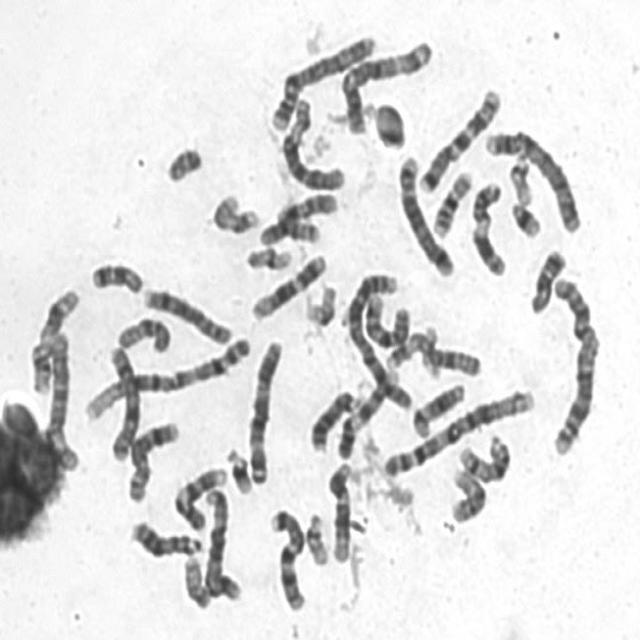A1: (78, 331, 255, 424), (378, 384, 540, 481)
A2: (545, 270, 602, 458), (343, 265, 415, 413)
A3: (337, 33, 436, 137), (244, 333, 286, 488)
B4: (266, 27, 377, 135), (481, 122, 583, 235)
B5: (394, 150, 456, 278), (199, 483, 243, 603)
C10: (255, 188, 339, 248), (360, 288, 412, 350)
C11: (27, 281, 82, 397), (466, 175, 509, 278)
C12: (247, 248, 329, 322), (323, 459, 354, 565)
C6: (276, 93, 348, 193), (42, 326, 78, 473)
C7: (414, 83, 504, 195), (266, 502, 308, 614)
C8: (138, 282, 234, 347), (122, 416, 182, 505)
C9: (333, 362, 402, 461), (170, 461, 230, 533)
D13: (306, 384, 364, 455), (126, 515, 207, 560)
D14: (408, 376, 468, 439), (454, 429, 514, 484)
D15: (114, 310, 174, 356), (417, 341, 484, 379)
E16: (428, 164, 474, 239), (446, 462, 489, 525)
E17: (382, 321, 442, 373), (208, 188, 262, 236)
E18: (526, 243, 568, 315), (86, 256, 145, 297)
F19: (302, 280, 339, 328), (242, 242, 295, 272)
F20: (179, 550, 213, 610), (274, 207, 322, 244)
G21: (222, 442, 255, 497), (507, 196, 544, 240)
G22: (506, 148, 536, 208), (302, 508, 331, 568)
X: (103, 339, 142, 464)
Y: (162, 141, 205, 184)
